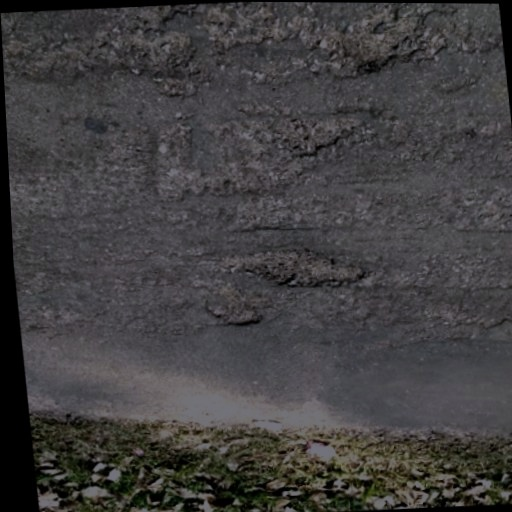pothole: (231, 248, 369, 295), (322, 15, 409, 80), (271, 114, 365, 162), (132, 30, 200, 73), (202, 297, 265, 332)
